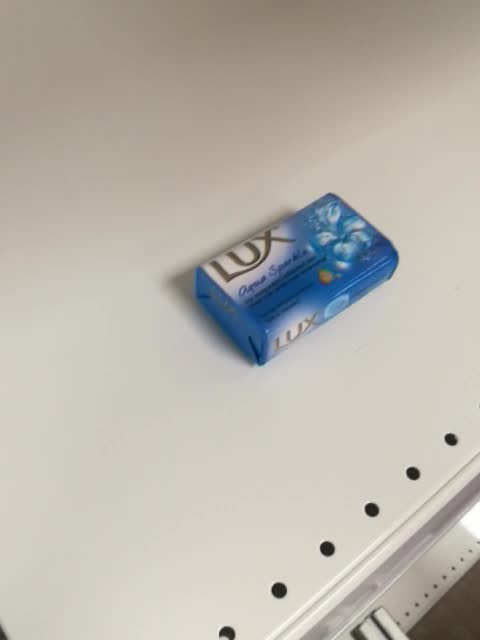soap: (194, 192, 399, 368)
